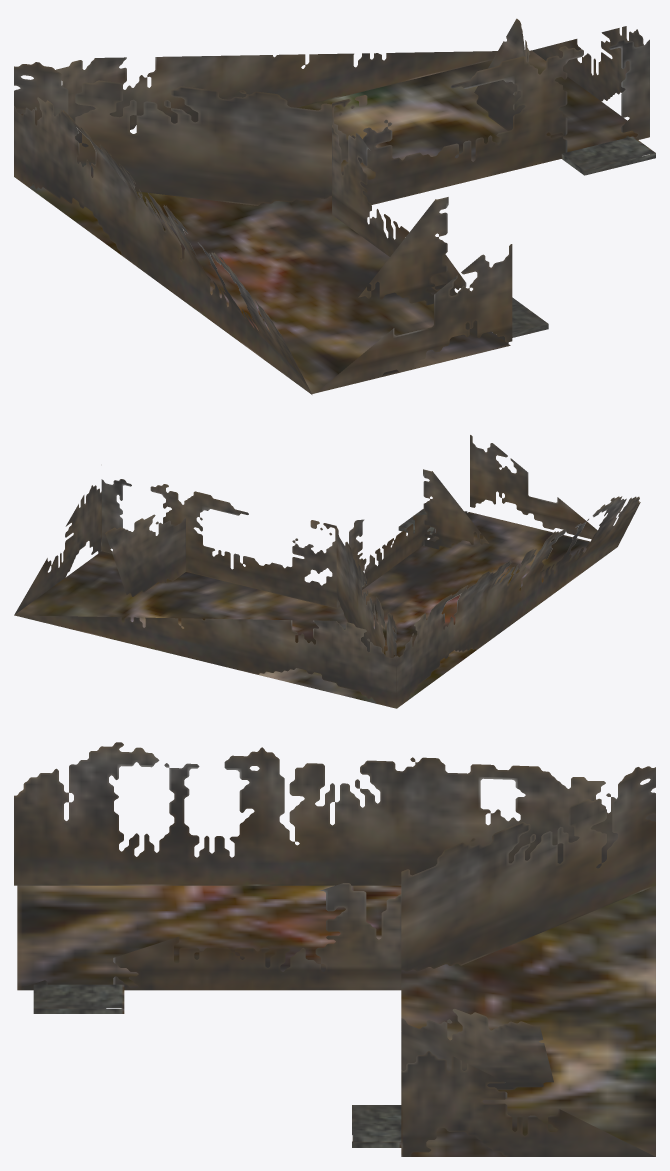
Rendered from 2civliving_dam.glb.
3 renders of one model, top to bottom at view 1: azimuth 30°, elevation 25°; view 2: azimuth 150°, elevation 25°; view 3: azimuth 270°, elevation 25°, orthographic. The views are drawn at different scales.
Visible parts, largest first — view 1: Box01; view 2: Box01; view 3: Box01.
Boxes of the visible parts, x1,y1,x2,y2 form: Box01: (14, 18, 655, 394); Box01: (14, 435, 640, 708); Box01: (14, 742, 655, 1156).
Bounding box in the file's own units: 14.07 × 2.77 × 12.79.
1 material, 1 textured.
